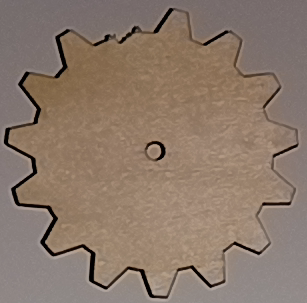Missing: (96, 15, 144, 48)
